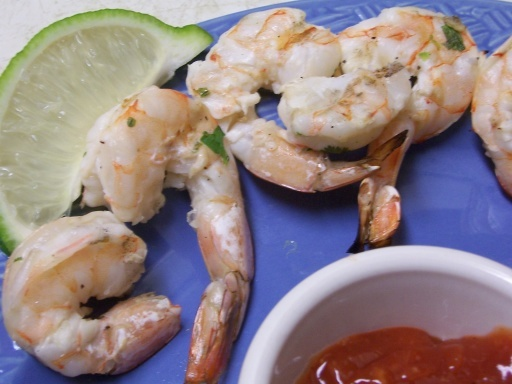background: (0, 2, 410, 230), (176, 36, 409, 230)
